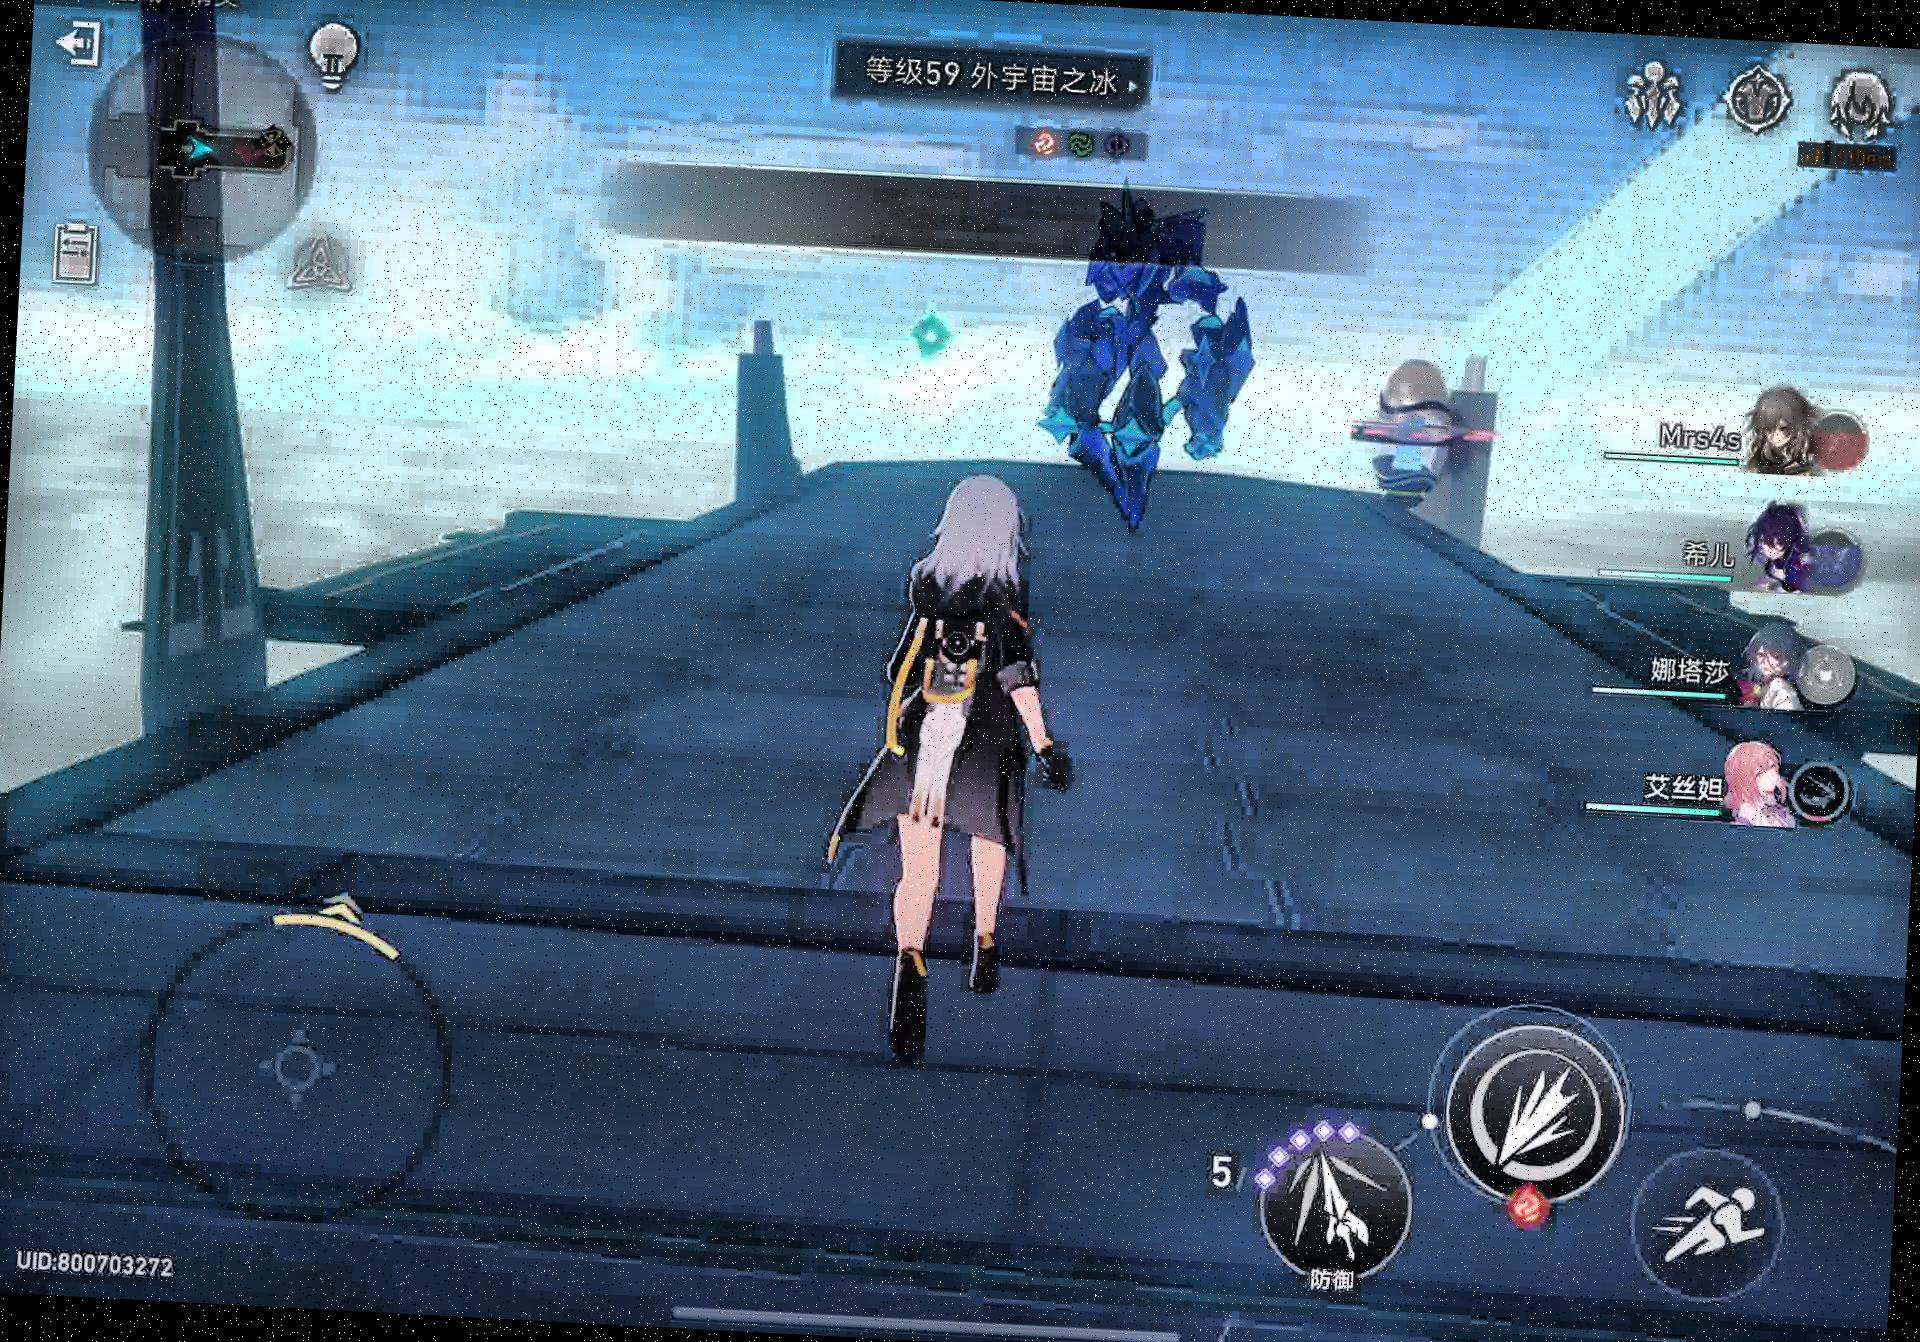Enemy: (1043, 187, 1261, 538)
SafeDoor: (906, 300, 961, 372)
Self: (829, 468, 1090, 1097)
